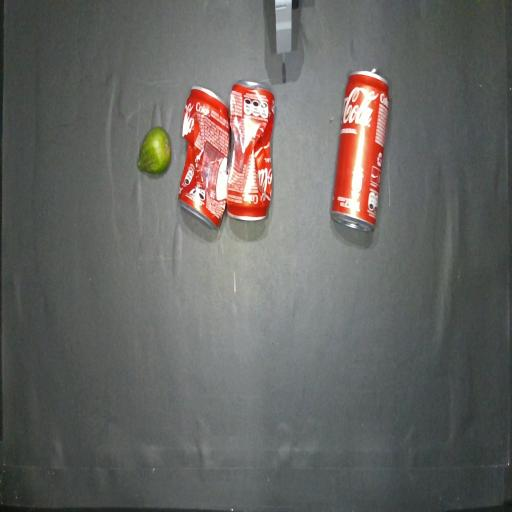higo: (138, 127, 171, 174)
lata: (331, 69, 389, 231)
lata_defectuoso: (179, 86, 230, 228), (227, 81, 275, 220)
